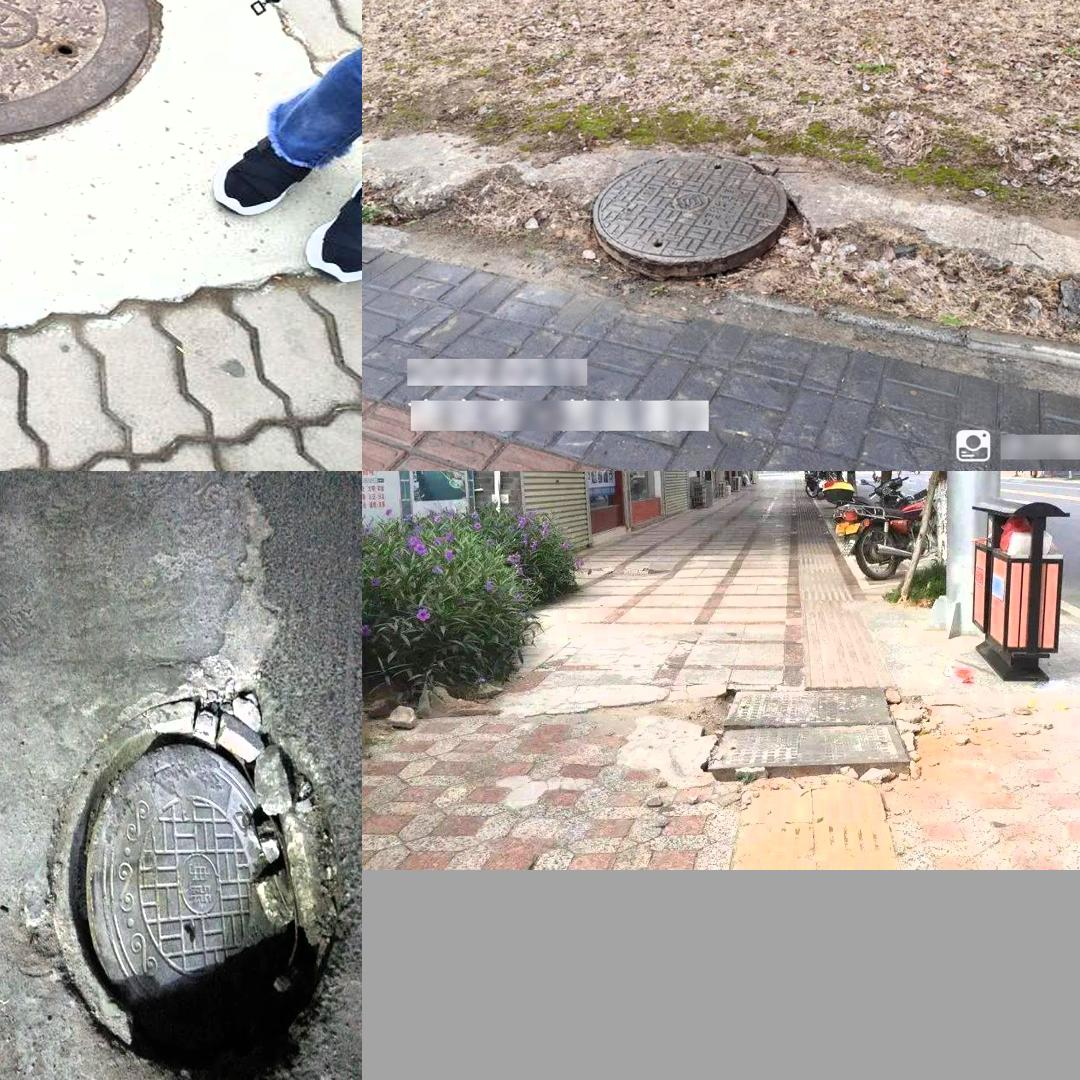circle: (37, 696, 350, 1080), (665, 663, 969, 824), (0, 0, 236, 183), (588, 149, 797, 276)
